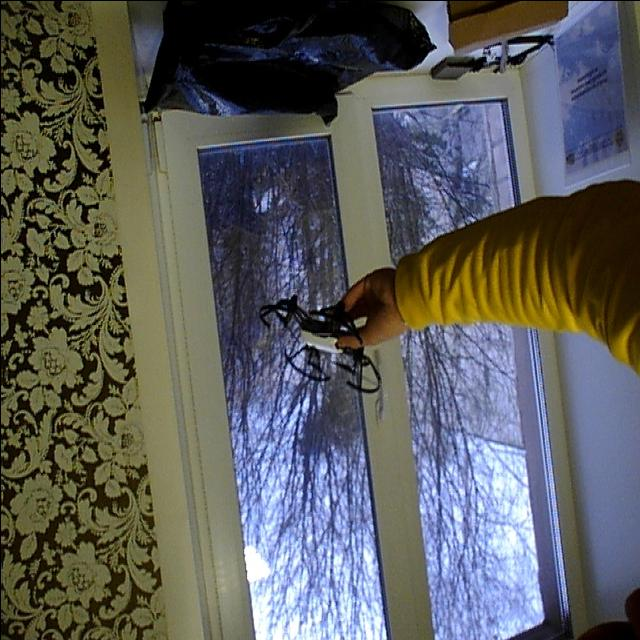drone: (249, 274, 389, 412)
